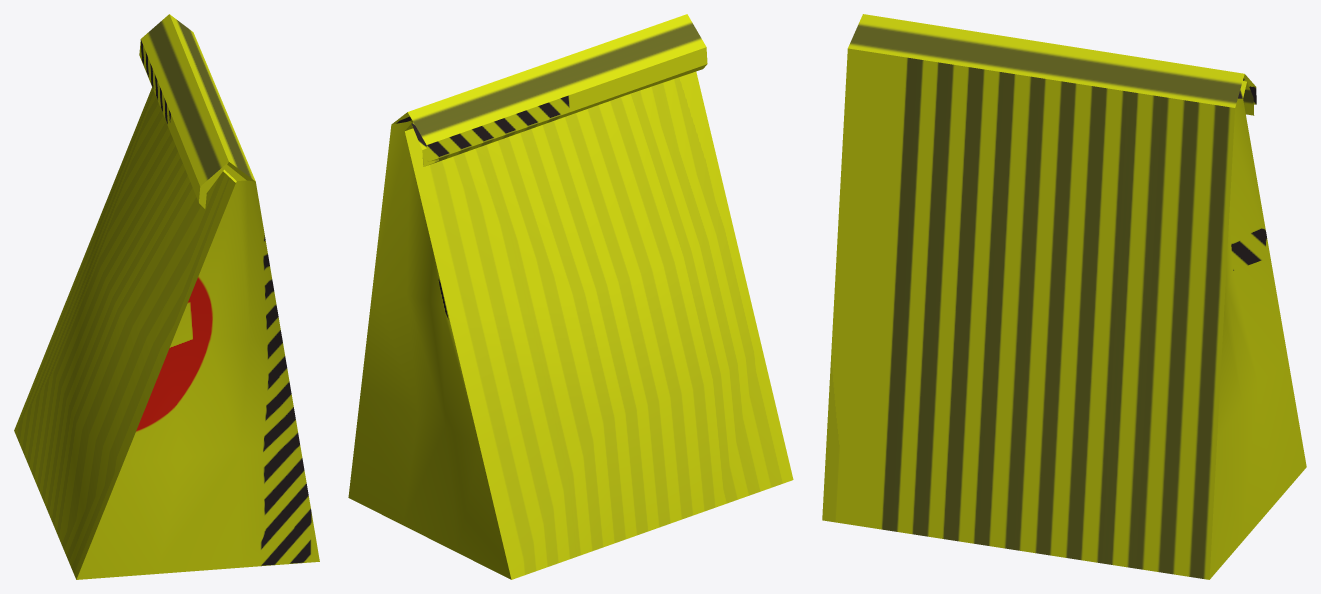
The model's file is seed pack.fbx.
3 renders of one model, left to right at view 1: azimuth 30°, elevation 25°; view 2: azimuth 150°, elevation 25°; view 3: azimuth 270°, elevation 25°, orthographic. The views are drawn at different scales.
Visible parts, largest first — view 1: Box001; view 2: Box001; view 3: Box001.
Part boxes in pixels (x1,y1,x2,y2): Box001: (14, 14, 319, 579); Box001: (348, 14, 793, 579); Box001: (822, 14, 1306, 579).
Bounding box in the file's own units: 35.6 × 44.8 × 42.28.
1 material, 1 textured.
